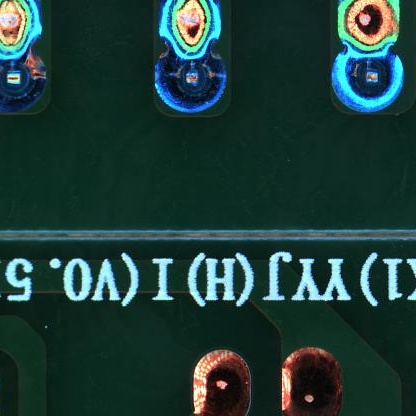spot: (332, 47, 406, 113), (156, 51, 230, 113), (1, 47, 46, 112)
